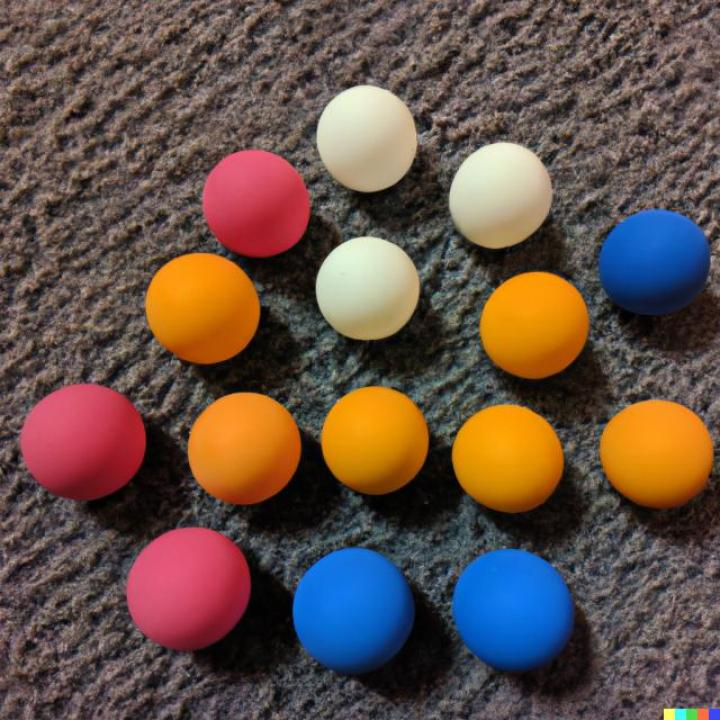orange: (190, 393, 302, 505), (147, 253, 261, 363), (451, 404, 566, 513), (600, 398, 714, 505), (319, 386, 431, 494), (481, 272, 589, 378)
white: (450, 141, 554, 248), (318, 236, 420, 342), (318, 86, 418, 193)
